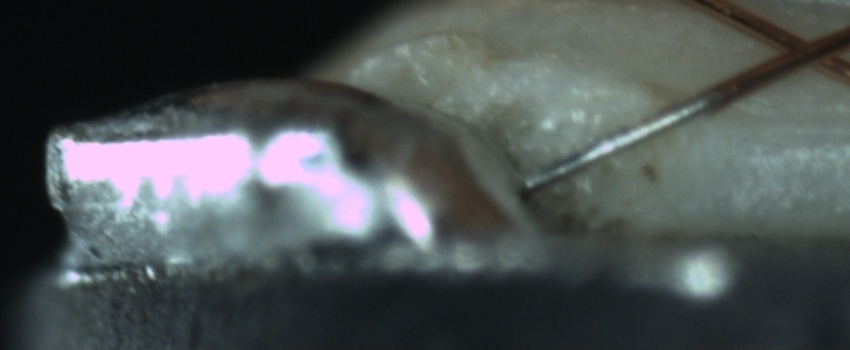CL: (762, 19, 847, 77)
DL: (687, 96, 849, 160)
TS: (523, 91, 723, 191)
